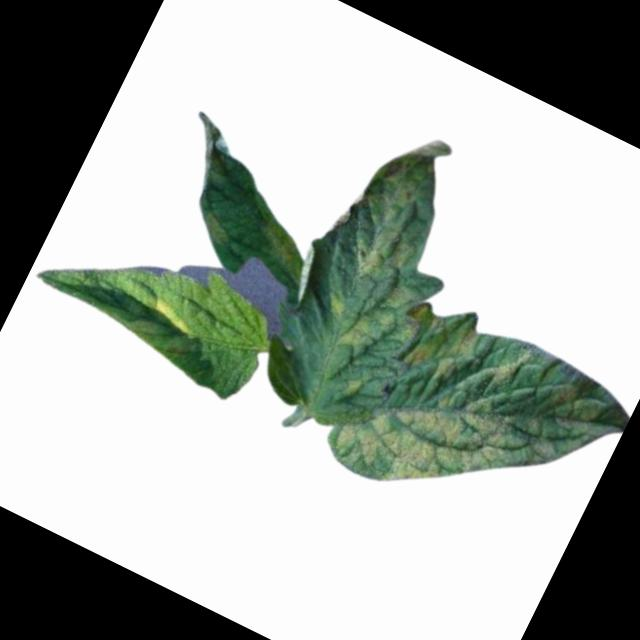Leaf_Mold: (318, 284, 637, 571), (327, 117, 467, 295), (313, 288, 385, 355), (147, 294, 202, 339), (189, 199, 237, 246)
